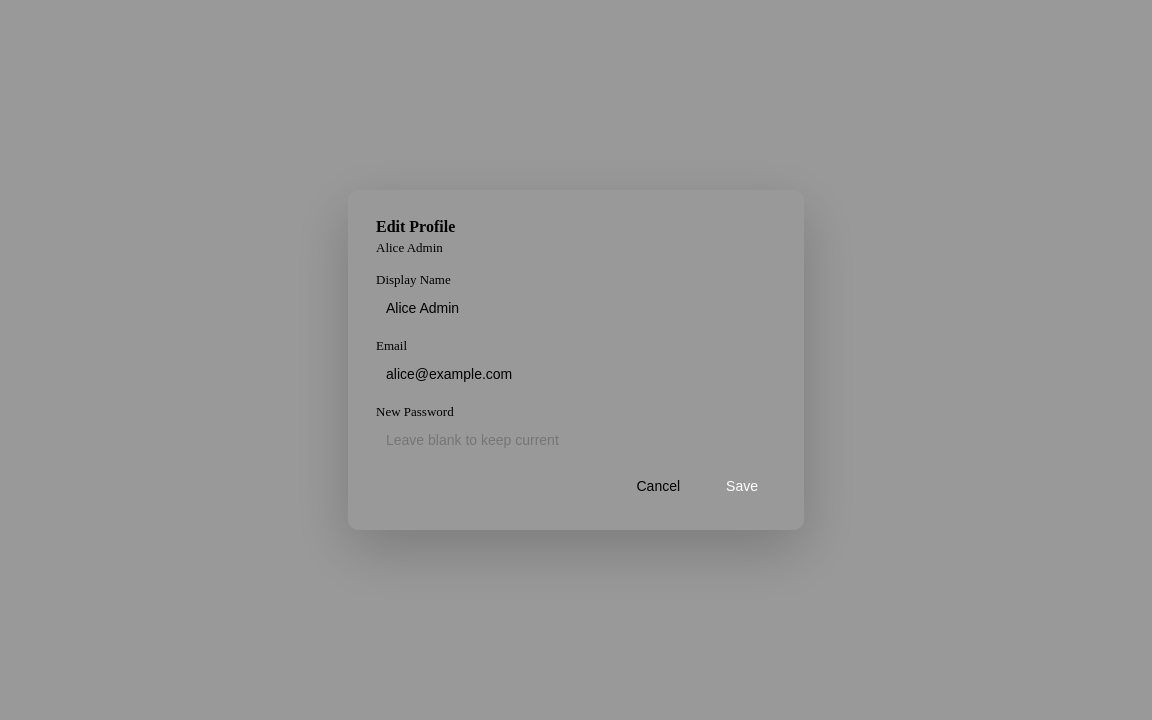
EditProfileModal — validation › shows password error when password is too short (super_admin)
Type "short" into the password field labelled "New Password" at {"x": 576, "y": 440}, box [376,424,776,456]
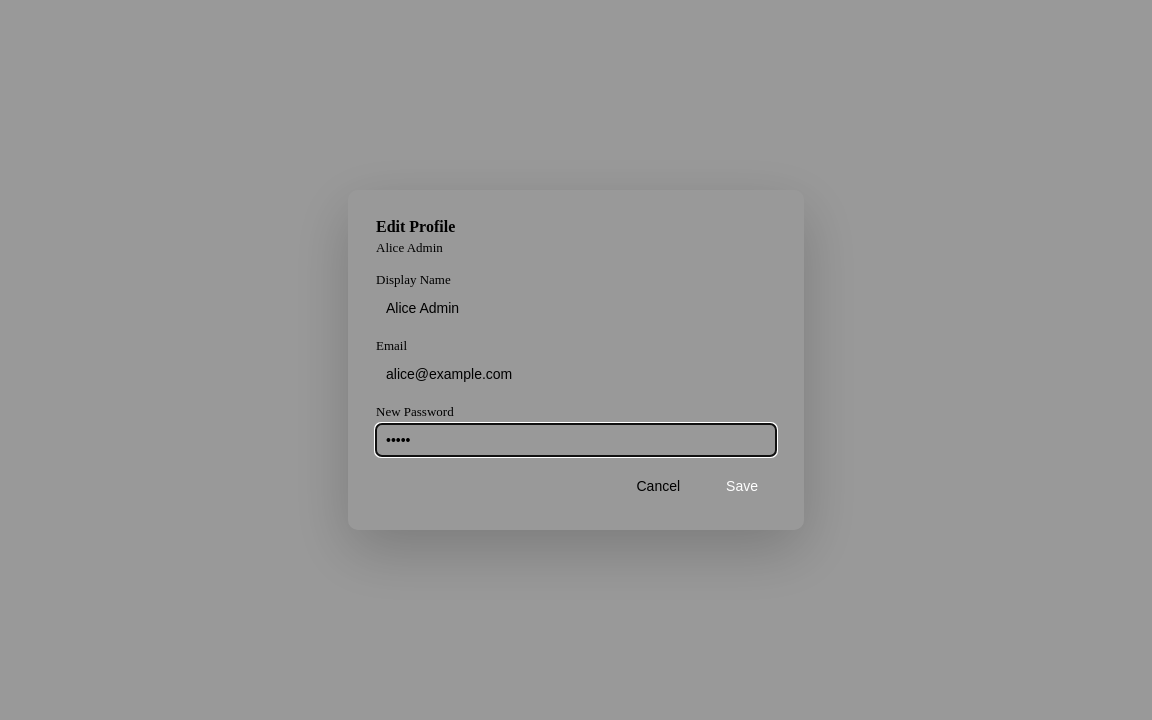
Click the button "Save" at {"x": 742, "y": 486}, box [708,470,776,502]
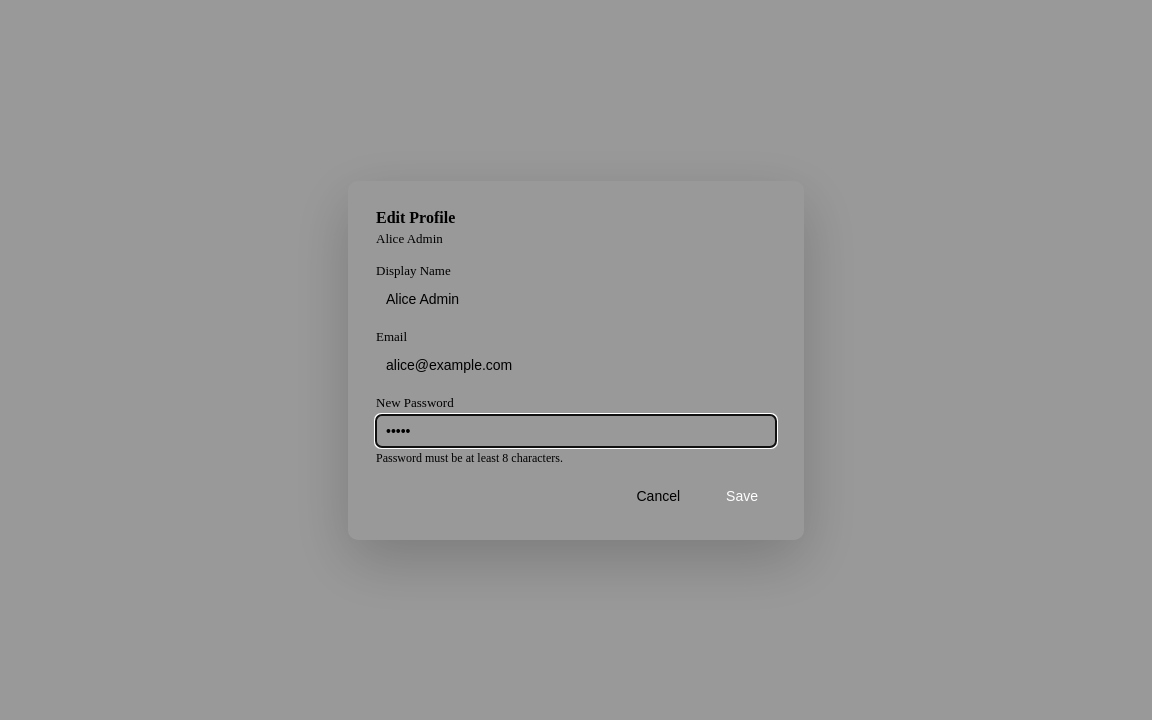
Expected: the text "Password must be at least 8 characters." is shown, [376,450,563,464]
